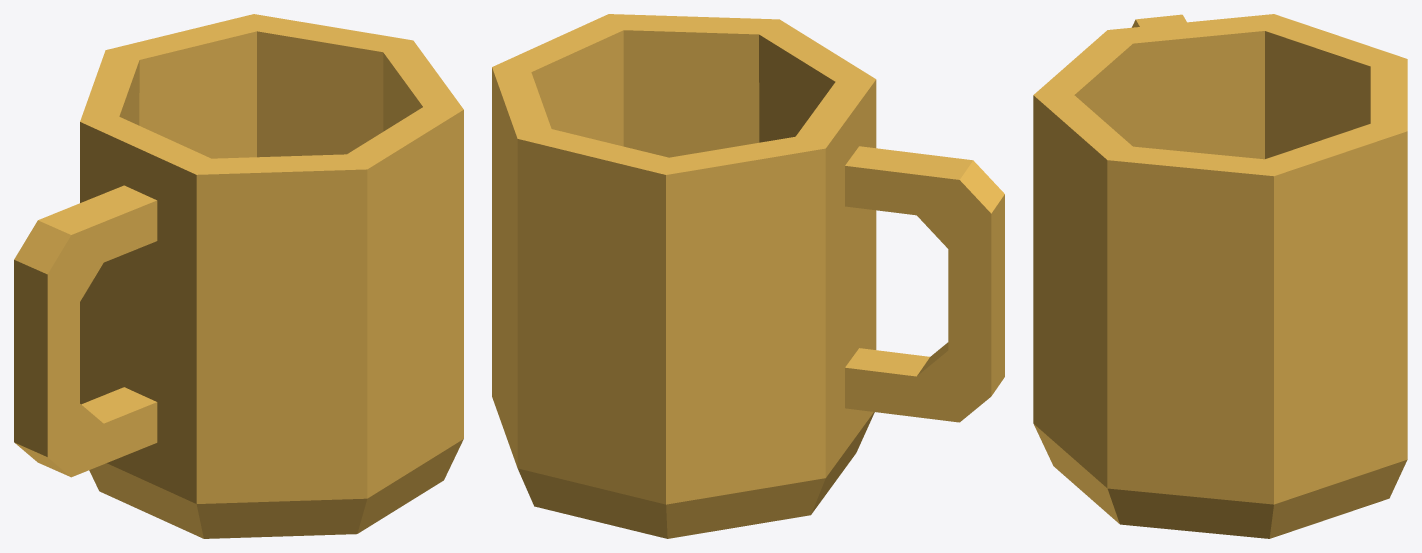
File: empty_tea_cupLZ.fbx
3 renders of one model, left to right at view 1: azimuth 30°, elevation 25°; view 2: azimuth 150°, elevation 25°; view 3: azimuth 270°, elevation 25°, orthographic.
Visible parts, largest first — view 1: empty_tea_cup; view 2: empty_tea_cup; view 3: empty_tea_cup.
Boxes of the visible parts, bbox=[...] form: empty_tea_cup: bbox=[14, 14, 463, 538]; empty_tea_cup: bbox=[492, 14, 1004, 538]; empty_tea_cup: bbox=[1033, 14, 1407, 538].
Size of the model in its own units: 0.1734 by 0.1255 by 0.1373.
Materials: 1 (1 with a texture image).
